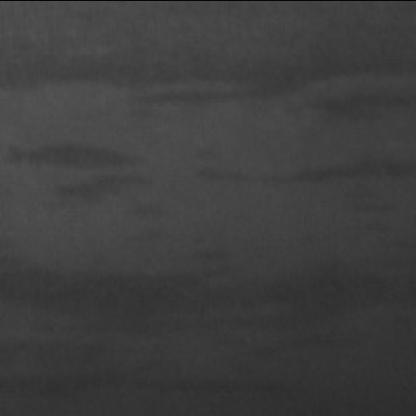inclusion: (4, 247, 408, 337), (4, 14, 408, 98), (186, 140, 410, 196), (2, 360, 304, 400), (2, 129, 158, 193)
